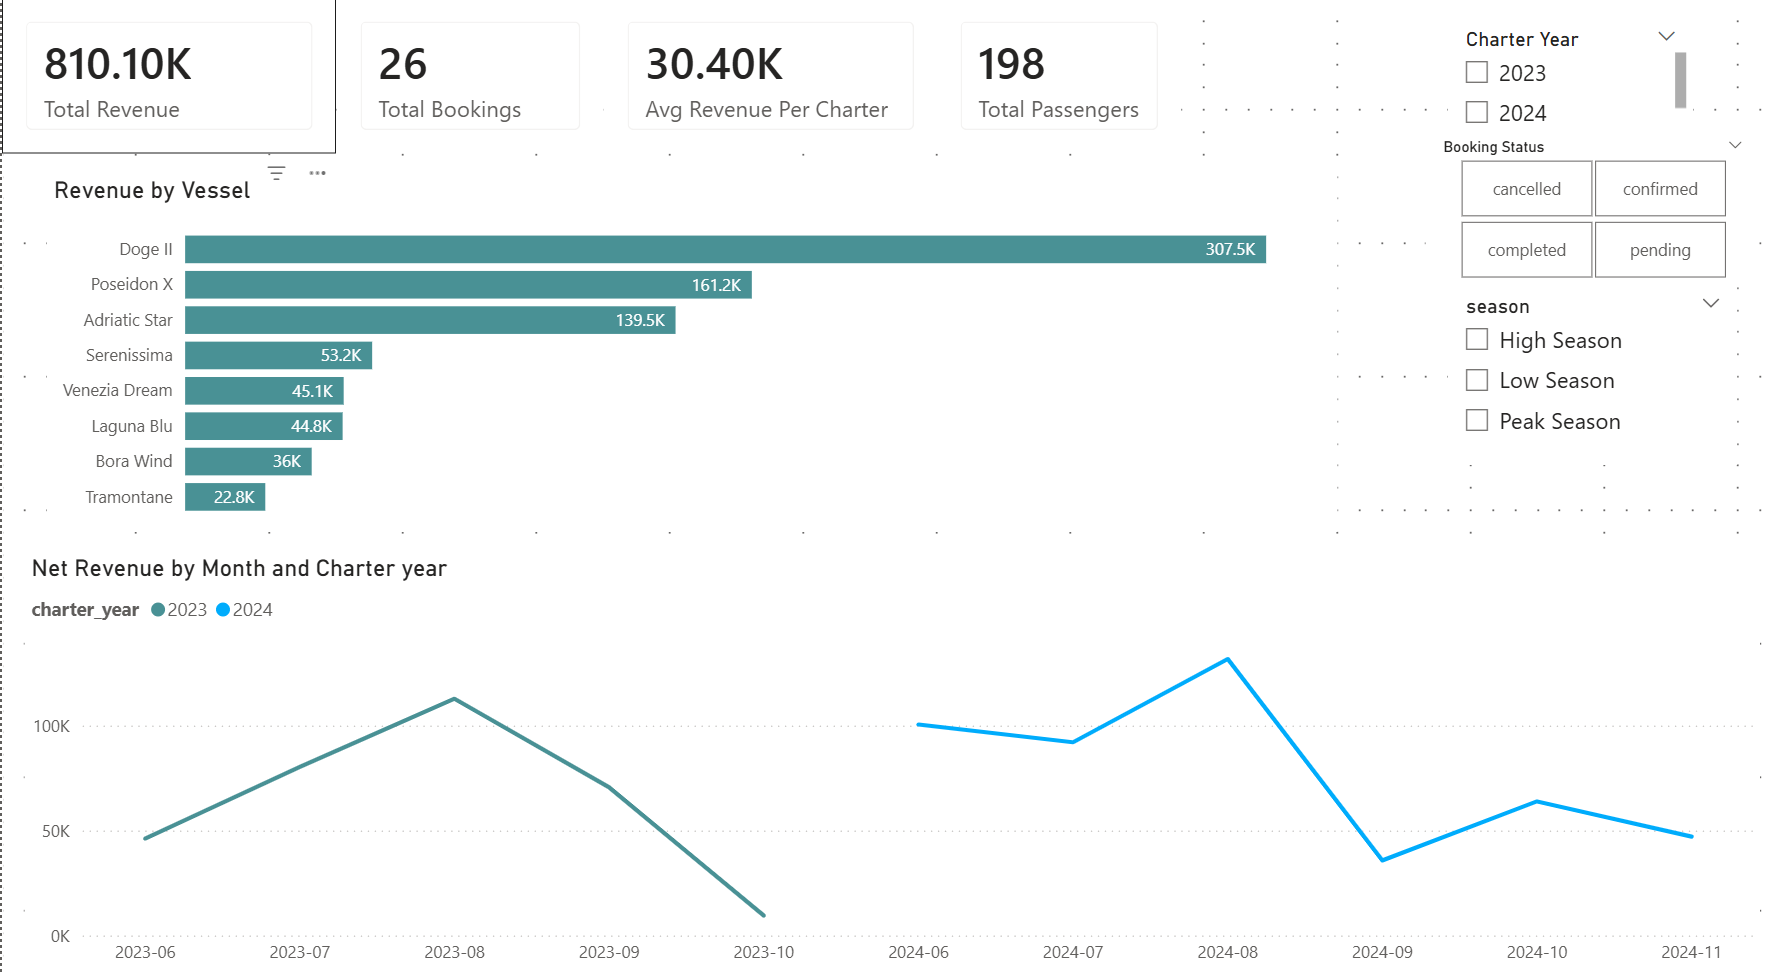

The page's visual inventory and layout, read from the dashboard file:
{"tool":"powerbi","page":{"name":"Revenue Overview","canvas":[1280,720],"ordinal":0},"visuals":[{"type":"clusteredBarChart","title":"Revenue by Vessel","fields":{"Category":["public vw_bookings_master.vessel_name"],"Y":["Sum(public vw_bookings_master.total_price_eur)"]},"box":[32,144,928,256],"z":0},{"type":"lineChart","title":"Net Revenue by Month and Charter year","fields":{"Category":["public vw_bookings_master.charter_month_str"],"Y":["Sum(public vw_bookings_master.net_revenue_eur)"],"Series":["public vw_bookings_master.charter_year"]},"box":[16,416,1248,304],"z":1000},{"type":"cardVisual","title":"Total Bookings","fields":{"Data":["CountNonNull(public vw_bookings_master.booking_id)"]},"box":[240,16,192,112],"z":2000},{"type":"cardVisual","fields":{"Data":["Avg(public vw_bookings_master.net_revenue_eur)"]},"box":[432,16,240,112],"z":3000},{"type":"cardVisual","fields":{"Data":["Sum(public vw_bookings_master.num_passengers)"]},"box":[672,16,176,112],"z":4000},{"type":"slicer","fields":{"Values":["public vw_bookings_master.charter_year"]},"box":[1040,32,176,80],"z":5000},{"type":"cardVisual","fields":{"Data":["Sum(public vw_bookings_master.total_price_eur)"]},"box":[0,16,240,112],"z":6000},{"type":"slicer","fields":{"Values":["public vw_bookings_master.booking_status"]},"box":[1024,112,240,112],"z":7000},{"type":"slicer","fields":{"Values":["public vw_bookings_master.season"]},"box":[1040,224,208,128],"z":8000}]}

Visuals, with their boxes in screenshot pixels (x1, y1, x2, y2), scaled from the page's 1280x720 canvas onto the 1771x973 screenshot:
"Revenue by Vessel" clusteredBarChart: 44,195,1328,541
"Net Revenue by Month and Charter year" lineChart: 22,562,1749,972
"Total Bookings" cardVisual: 332,22,598,173
cardVisual - Avg(public vw_bookings_master.net_revenue_eur): 598,22,930,173
cardVisual - Sum(public vw_bookings_master.num_passengers): 930,22,1173,173
slicer - public vw_bookings_master.charter_year: 1439,43,1682,151
cardVisual - Sum(public vw_bookings_master.total_price_eur): 0,22,332,173
slicer - public vw_bookings_master.booking_status: 1417,151,1749,303
slicer - public vw_bookings_master.season: 1439,303,1727,476
